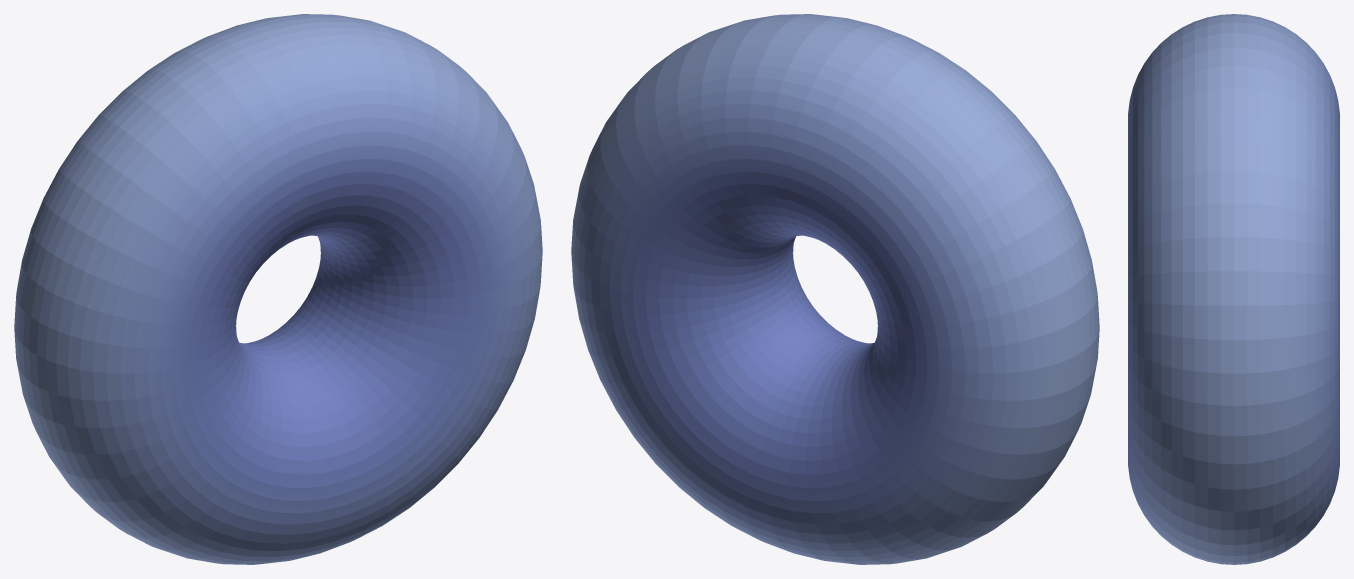
The picture shows the model from 3 angles, left to right: view 1: azimuth 30°, elevation 25°; view 2: azimuth 150°, elevation 25°; view 3: azimuth 270°, elevation 25°; orthographic projection. The views are drawn at different scales.
Parts seen in each view (by area): view 1: world; view 2: world; view 3: world.
Part boxes in pixels (bbox=[...]): world: bbox=[14, 14, 542, 564]; world: bbox=[571, 14, 1099, 564]; world: bbox=[1128, 14, 1339, 564].
Size of the model in its own units: 16.27 by 16.23 by 6.25.
